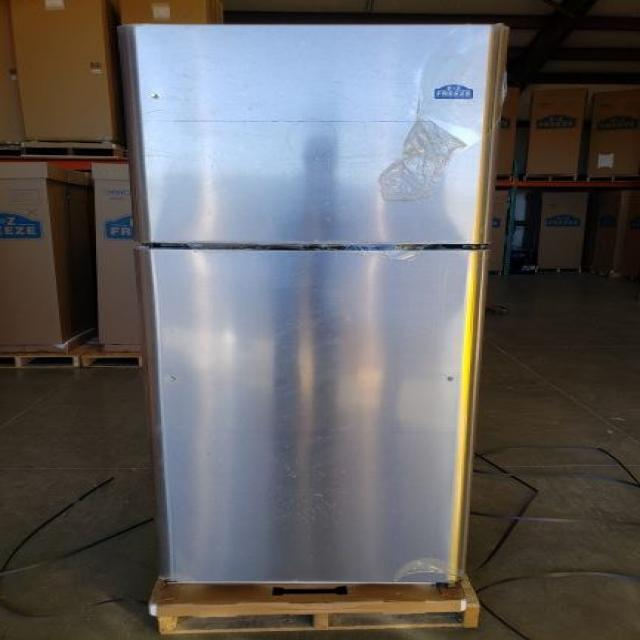refrigerator: (117, 21, 509, 584)
